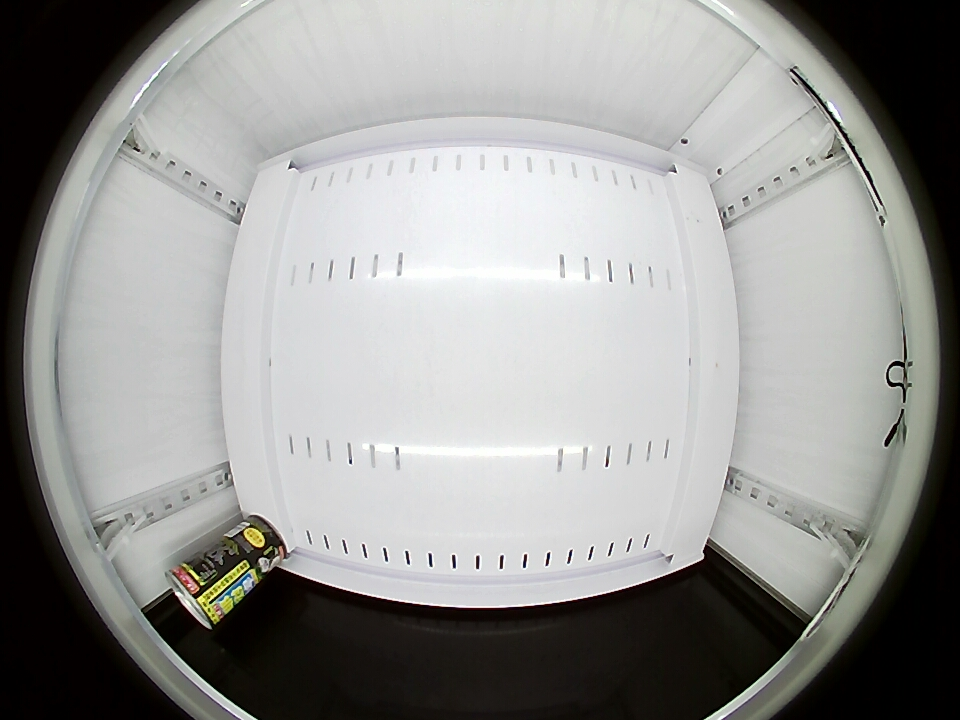yezhi: (167, 557, 232, 629)
